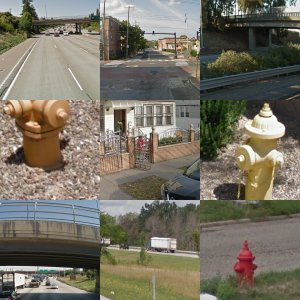棕梠樹: (1, 1, 100, 99)
汽車: (153, 123, 194, 152), (107, 231, 146, 260), (249, 162, 261, 175)
